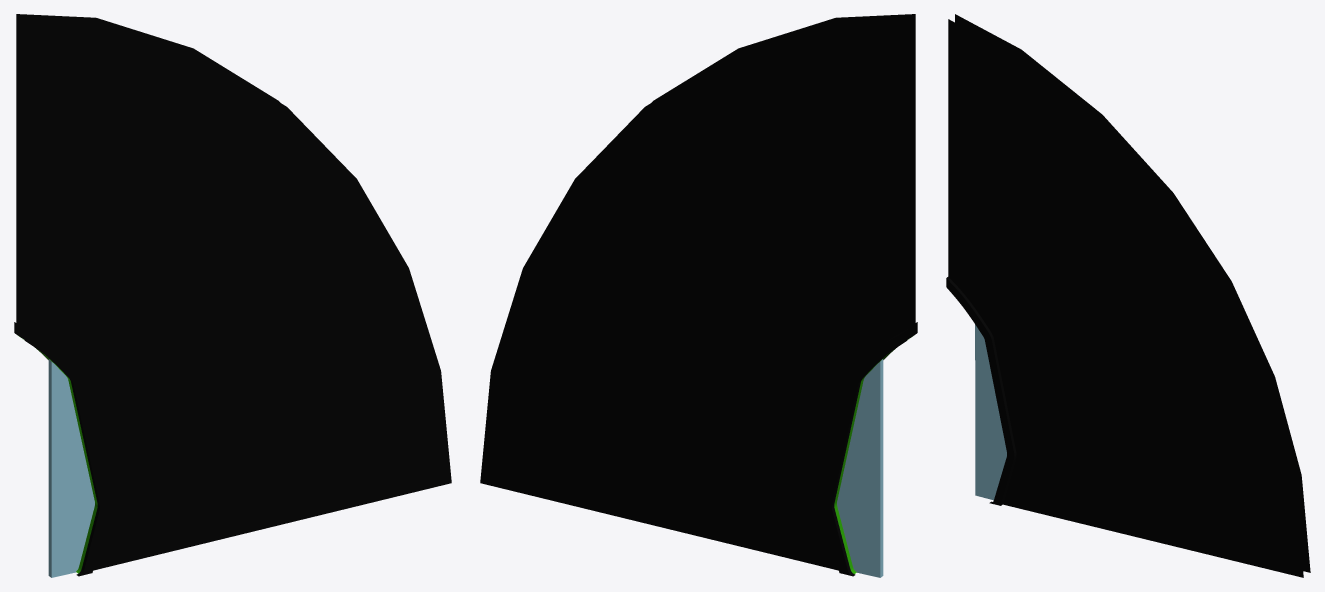
Rendered from Module_Mur_Quartier.fbx.
3 renders of one model, left to right at view 1: azimuth 30°, elevation 25°; view 2: azimuth 150°, elevation 25°; view 3: azimuth 330°, elevation 25°, orthographic. The views are drawn at different scales.
Parts seen in each view (by area): view 1: Box015; view 2: Box015; view 3: Box015.
Boxes of the visible parts, x1,y1,x2,y2 form: Box015: [14, 14, 451, 577]; Box015: [480, 14, 917, 577]; Box015: [946, 14, 1310, 577].
Size of the model in its own units: 601 by 763 by 31.31.
